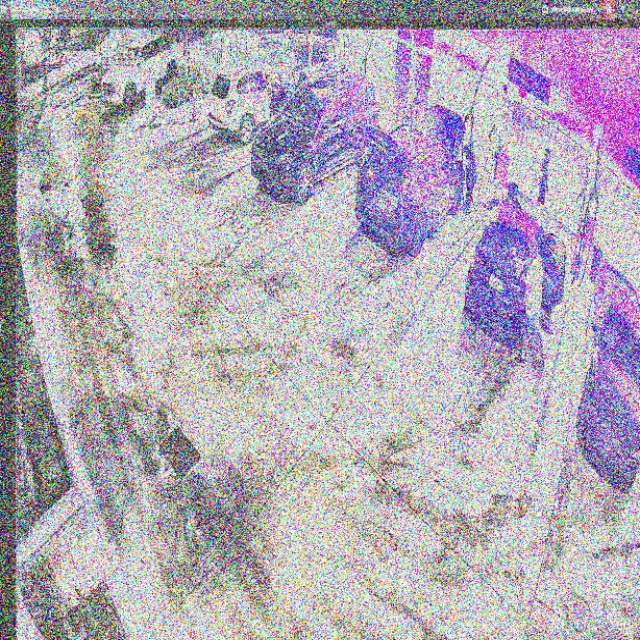Car: (352, 102, 464, 253), (251, 74, 379, 200), (468, 198, 566, 352)
